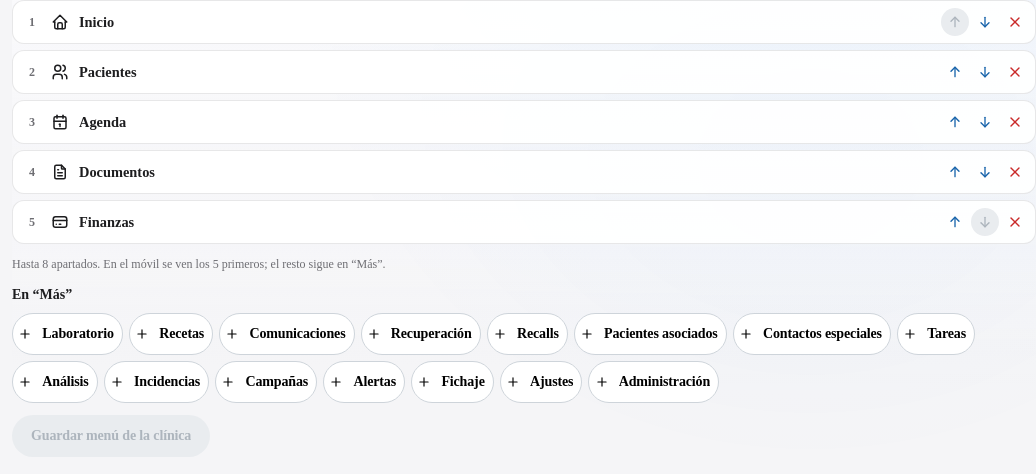
Test: NavigationLayoutEditor › lets the administrator remove items but never empty the menu
The width and height of the screenshot is (1036, 474).
Later steps or results of the test are not shown.
Click the button named "Quitar Inicio del menú": (1015, 22) [1001, 8, 1029, 36]
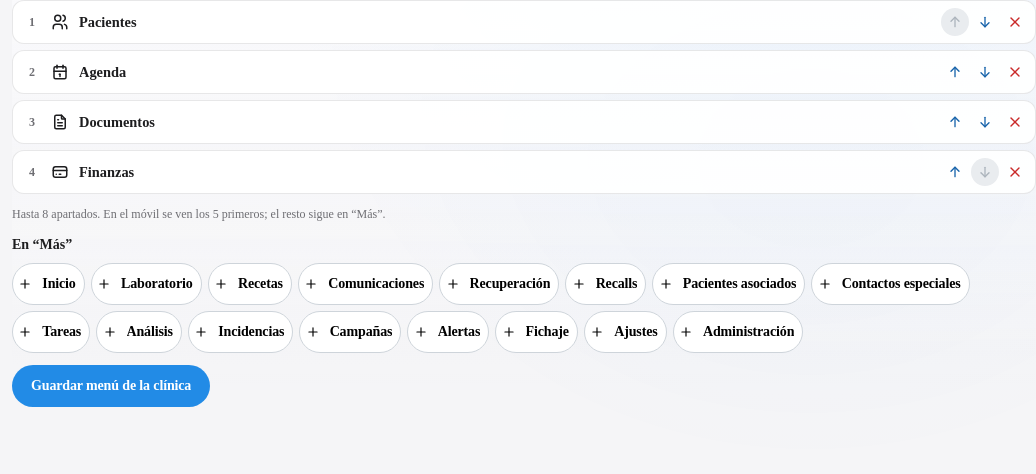
Click the button named "Quitar Pacientes del menú": (1015, 22) [1001, 8, 1029, 36]
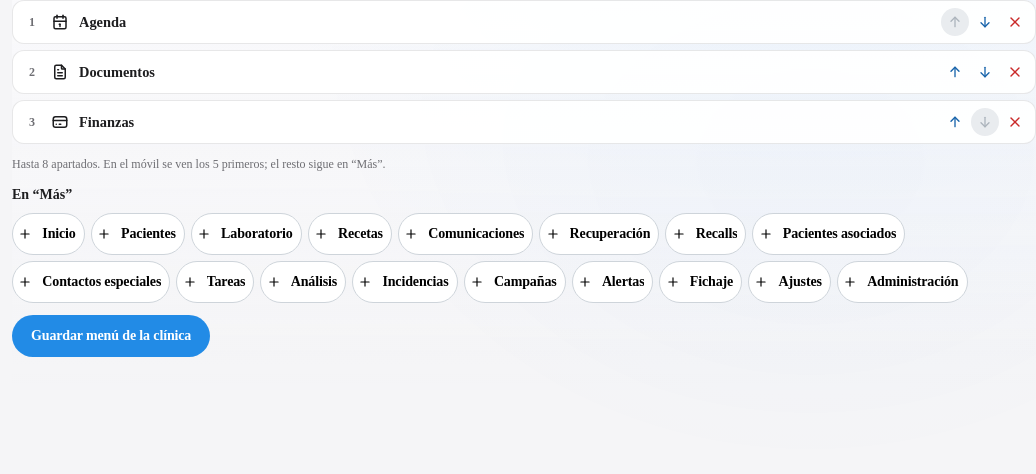
Click the button named "Quitar Agenda del menú": (1015, 22) [1001, 8, 1029, 36]
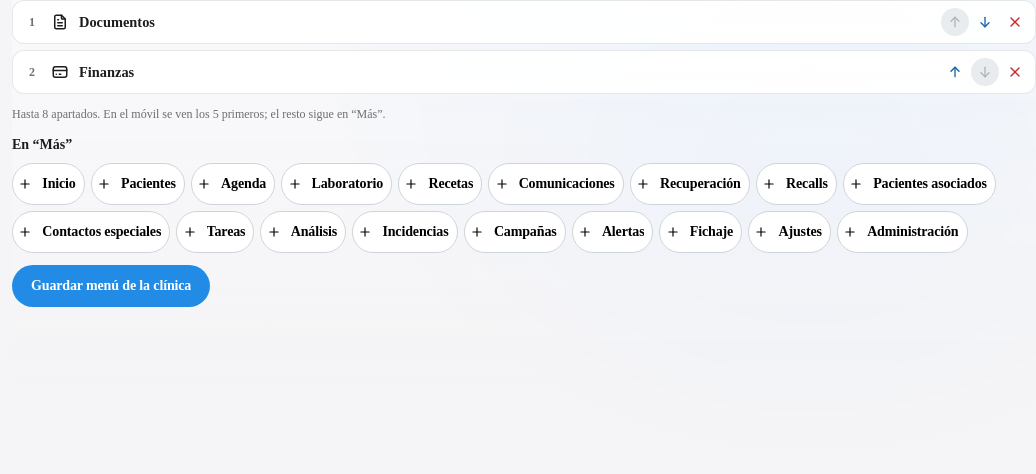
Click the button named "Quitar Documentos del menú": (1015, 22) [1001, 8, 1029, 36]
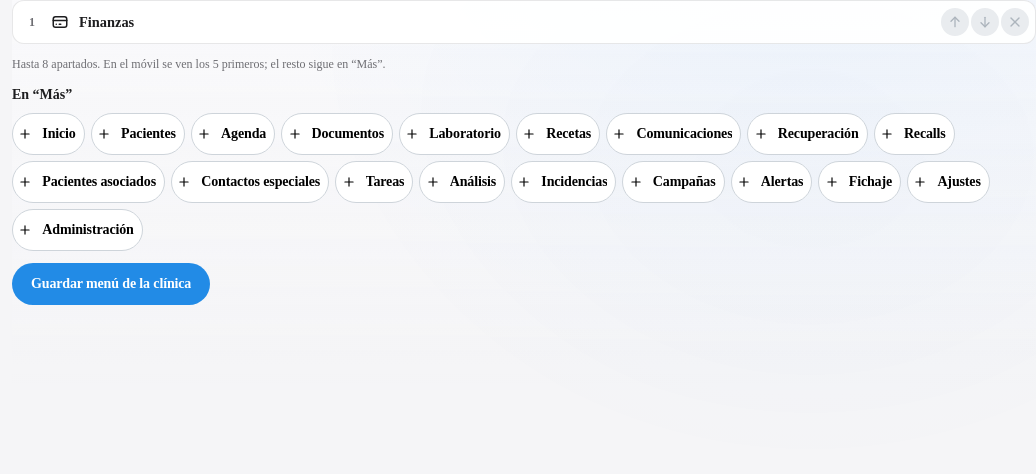
Check: the button named "Quitar Finanzas del menú" is disabled, box [1001, 8, 1029, 36]
